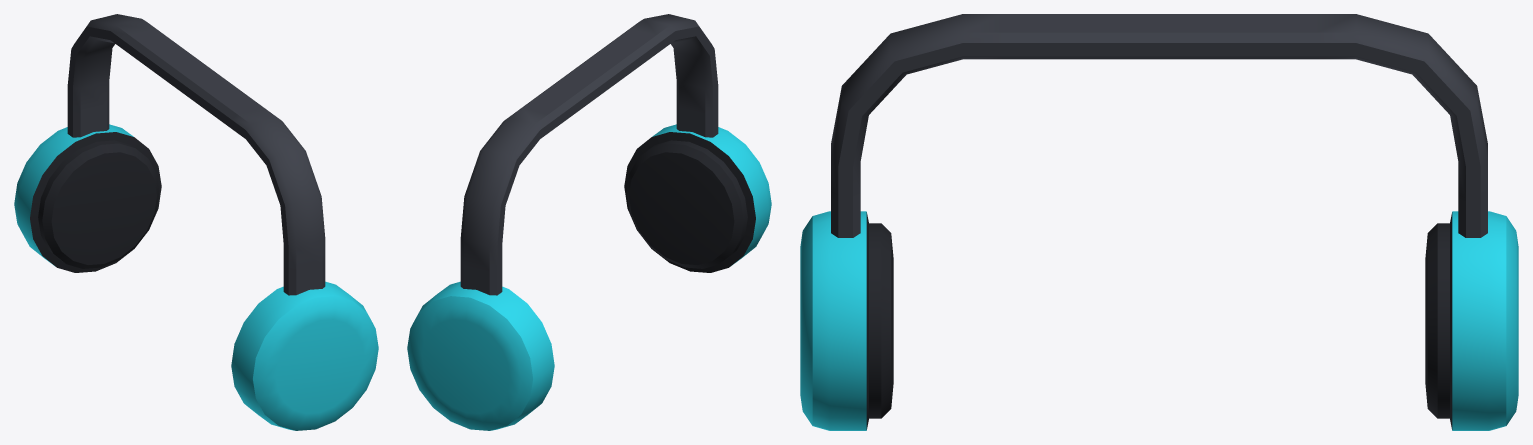
The model's file is acc_headphones.glb.
The picture shows the model from 3 angles, left to right: view 1: azimuth 30°, elevation 25°; view 2: azimuth 150°, elevation 25°; view 3: azimuth 270°, elevation 25°; orthographic projection. The views are drawn at different scales.
Parts seen in each view (by area): view 1: Headphones; view 2: Headphones; view 3: Headphones.
Part boxes in pixels (bbox=[...]): Headphones: bbox=[14, 14, 378, 430]; Headphones: bbox=[407, 14, 771, 430]; Headphones: bbox=[800, 14, 1518, 430].
Bounding box in the file's own units: 0.18 × 0.357 × 0.584.
